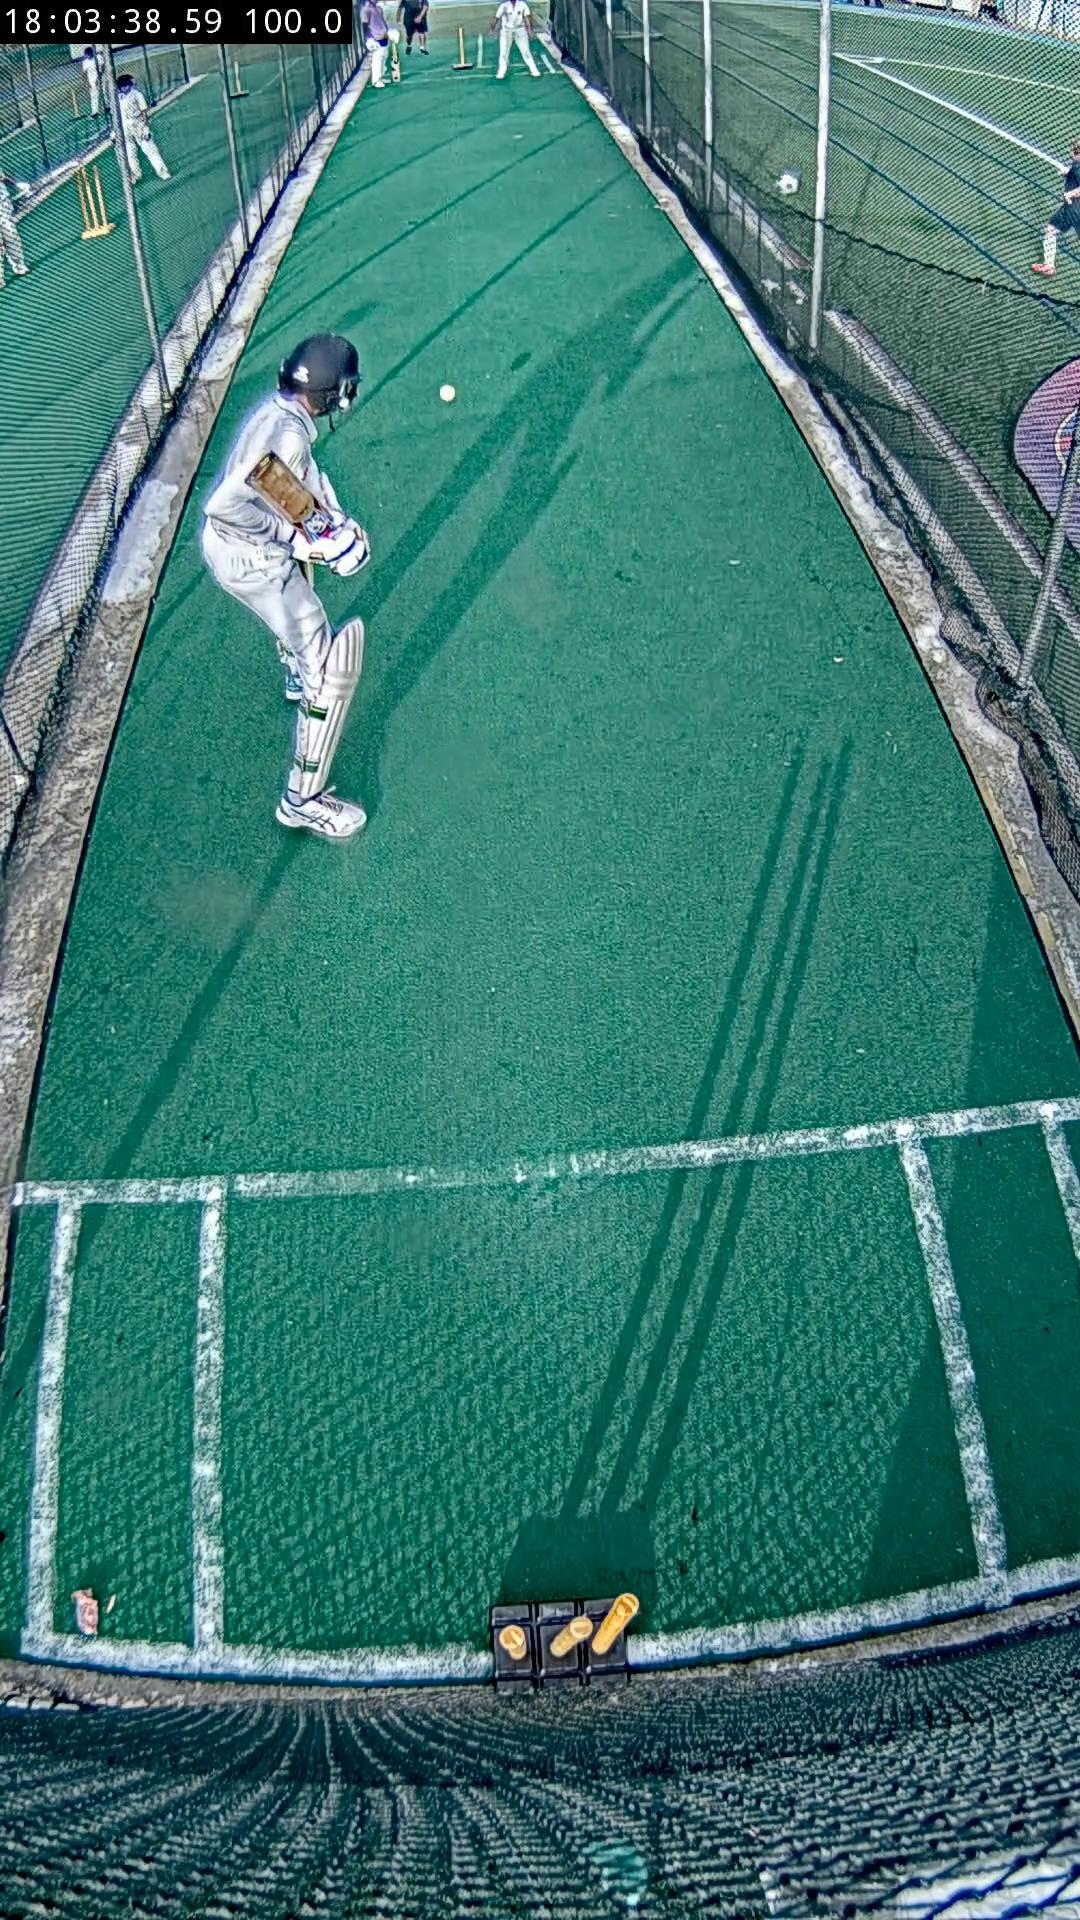ball: (439, 382, 458, 401)
bat: (240, 458, 342, 555)
gloves: (301, 529, 382, 592)
helmet: (277, 334, 360, 414)
pads: (289, 637, 360, 827)
stumps: (492, 1594, 641, 1692)
